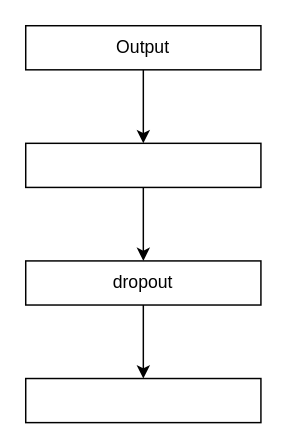
The diagram is 287 pixels wide and 448 high, and some of its shapes have lost their labels. The shapes that lost their labels are listed below. From the top down, each one's centre as x and y in pixels, then its label:
(x=142, y=164): pooled_output
(x=142, y=400): dense
